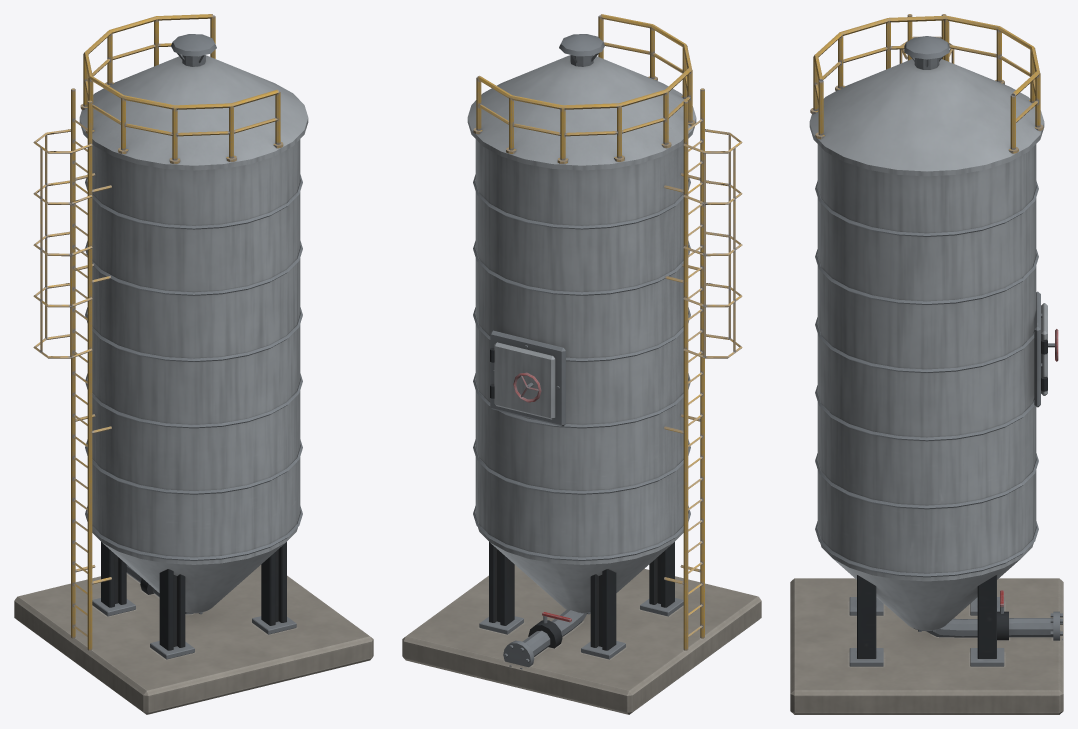
Rendered from silo_almacen.fbx.
3 renders of one model, left to right at view 1: azimuth 30°, elevation 25°; view 2: azimuth 150°, elevation 25°; view 3: azimuth 270°, elevation 25°, orthographic. The views are drawn at different scales.
Parts seen in each view (by area): view 1: silo_almacen; view 2: silo_almacen, silo_almacen_puerta_inspeccion; view 3: silo_almacen, silo_almacen_puerta_inspeccion.
Boxes of the visible parts, x1,y1,x2,y2 form: silo_almacen: (14,14,373,714); silo_almacen: (402,14,761,714); silo_almacen_puerta_inspeccion: (490,342,555,419); silo_almacen: (790,14,1063,714); silo_almacen_puerta_inspeccion: (1041,303,1058,395).
Bounding box in the file's own units: 4.67 × 10.05 × 4.
Materials: 1 (1 with a texture image).
